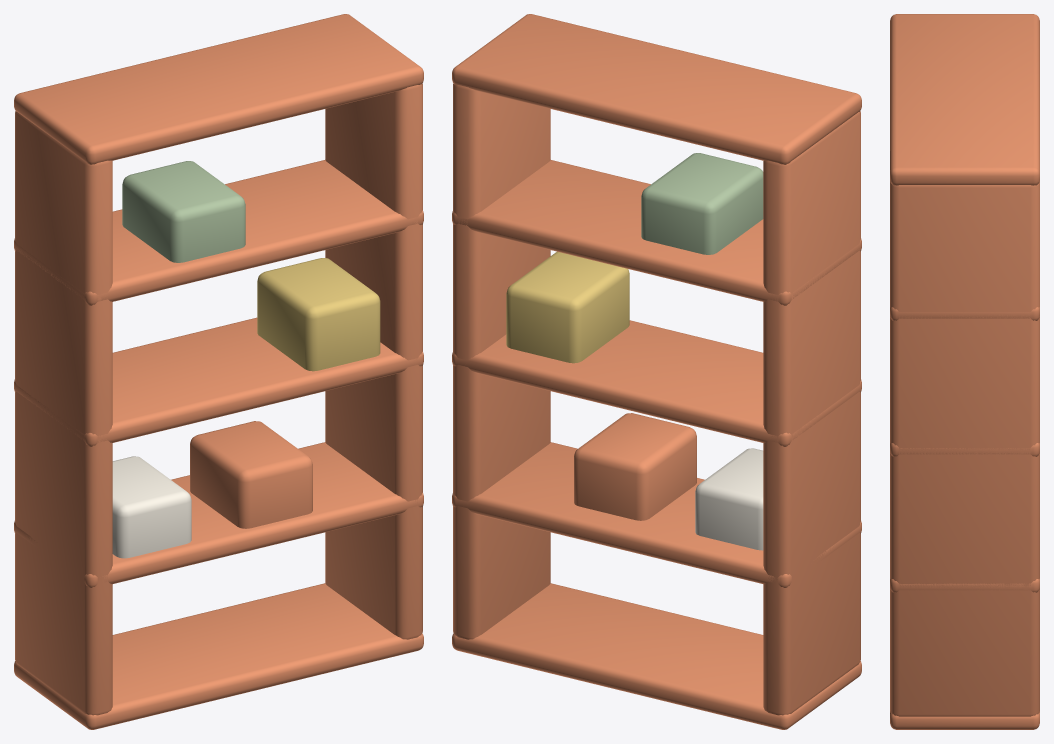
Rendered from snack-shelf.glb.
3 renders of one model, left to right at view 1: azimuth 30°, elevation 25°; view 2: azimuth 150°, elevation 25°; view 3: azimuth 270°, elevation 25°, orthographic. The views are drawn at different scales.
Visible parts, largest first — view 1: side.002, side.003, shelf.013, shelf.009, shelf.011, shelf.012, shelf.010, contents-2.001, contents-1.001, contents-3.001, contents-0.001; view 2: side.002, side.003, shelf.013, shelf.009, shelf.011, shelf.012, shelf.010, contents-2.001, contents-1.001, contents-3.001, contents-0.001; view 3: side.003, shelf.013, shelf.009, shelf.010, shelf.012, shelf.011.
Boxes of the visible parts, x1,y1,x2,y2 form: side.002: (15,111,112,715); side.003: (325,83,422,639); shelf.013: (14,14,423,164); shelf.009: (14,583,423,729); shelf.011: (14,317,423,446); shelf.012: (14,160,423,305); shelf.010: (14,442,423,587); contents-2.001: (257,258,380,371); contents-1.001: (190,421,312,528); contents-3.001: (122,161,245,262); contents-0.001: (112,456,191,558); side.002: (763,111,860,715); side.003: (453,83,550,639); shelf.013: (452,14,861,164); shelf.009: (452,583,861,729); shelf.011: (452,320,861,446); shelf.012: (452,160,861,305); shelf.010: (452,442,861,587); contents-2.001: (506,251,629,363); contents-1.001: (574,413,696,520); contents-3.001: (641,153,763,254); contents-0.001: (695,448,763,550); side.003: (890,180,1039,716); shelf.013: (890,14,1039,185); shelf.009: (890,711,1039,729); shelf.010: (890,579,1039,592); shelf.012: (890,307,1039,320); shelf.011: (890,443,1039,456).
Size of the model in its own units: 1 by 1.66 by 0.4.
